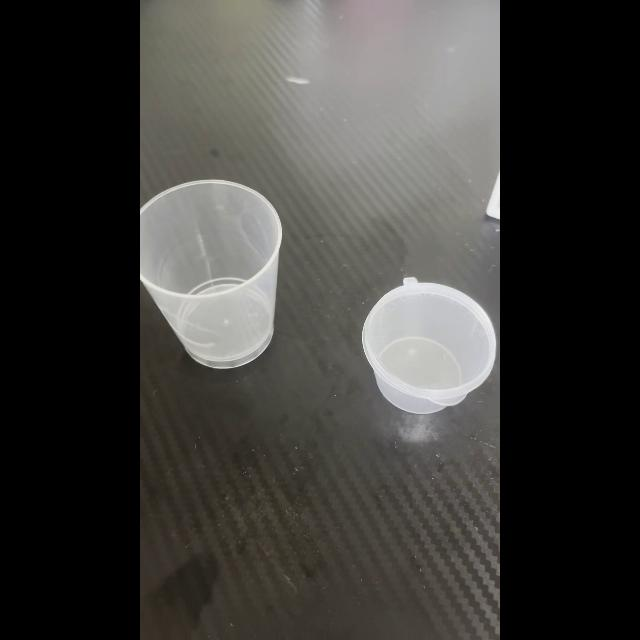clean: (140, 182, 282, 364), (362, 281, 498, 414)
